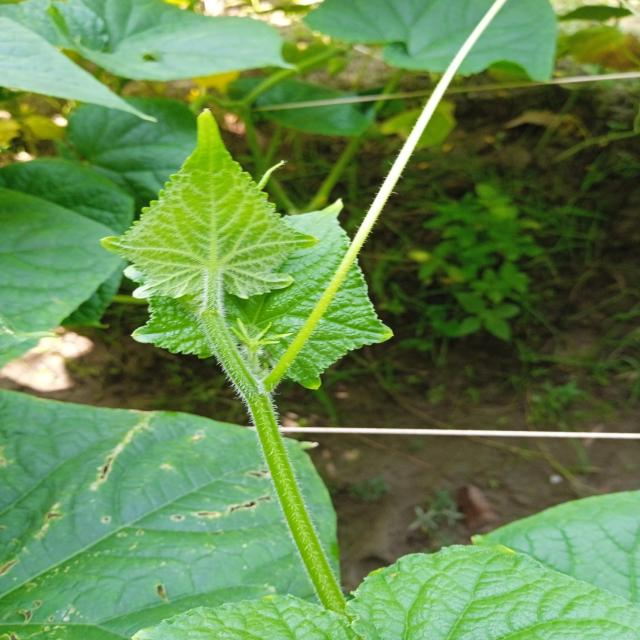cucumber_healthy: (0, 389, 346, 640), (120, 188, 398, 405), (126, 536, 640, 640), (100, 102, 322, 315), (0, 186, 136, 374)
